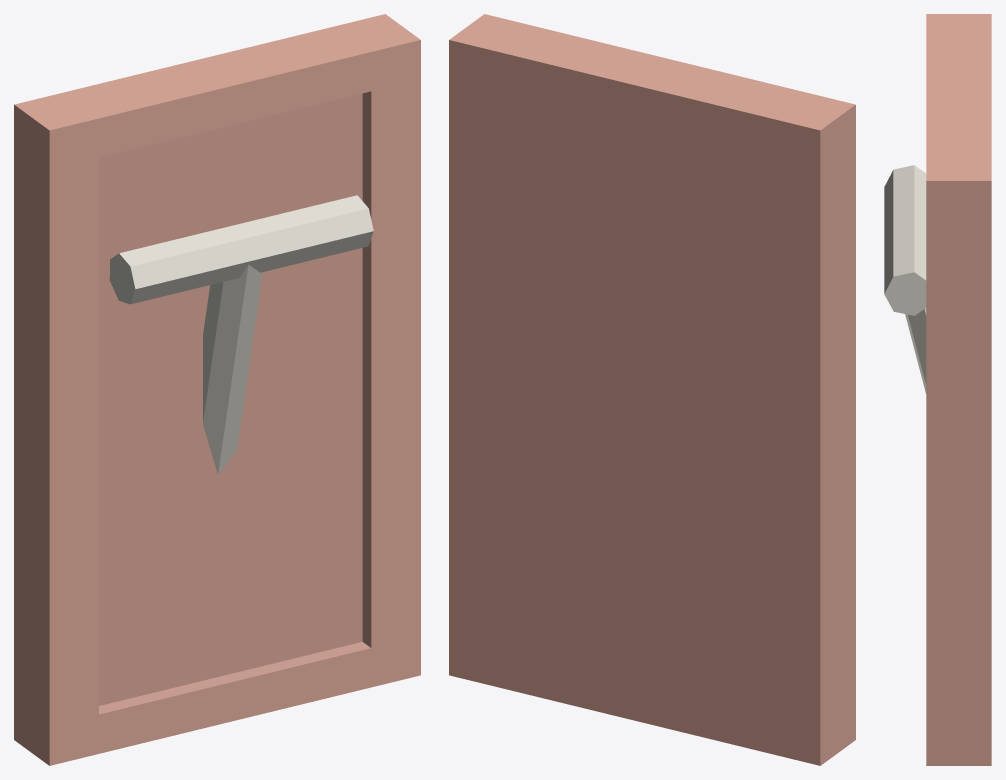
File: fire1.fbx
The picture shows the model from 3 angles, left to right: view 1: azimuth 30°, elevation 25°; view 2: azimuth 150°, elevation 25°; view 3: azimuth 270°, elevation 25°; orthographic projection. The views are drawn at different scales.
Parts seen in each view (by area): view 1: Cylinder_2; view 2: Cylinder_2; view 3: Cylinder_2.
Boxes of the visible parts, <box> form: Cylinder_2: <box>14,14,420,765</box>; Cylinder_2: <box>449,14,855,765</box>; Cylinder_2: <box>884,14,991,765</box>.
Size of the model in its own units: 17.05 by 27.89 by 4.64.
